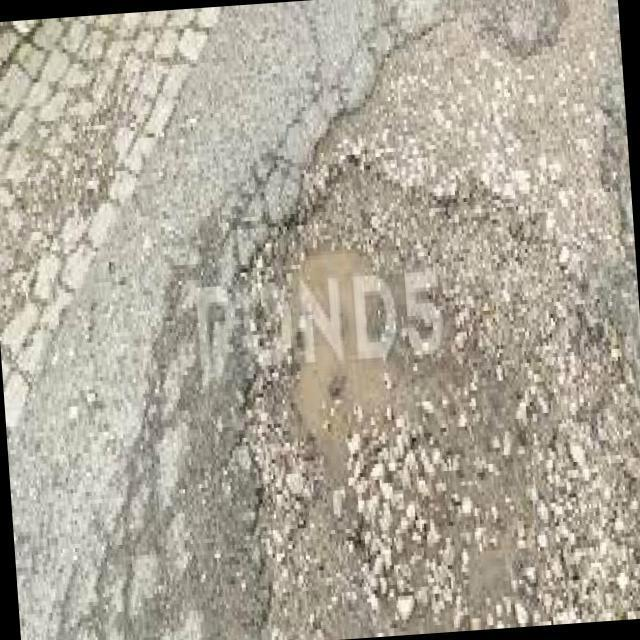Pothole: (256, 175, 472, 622)
